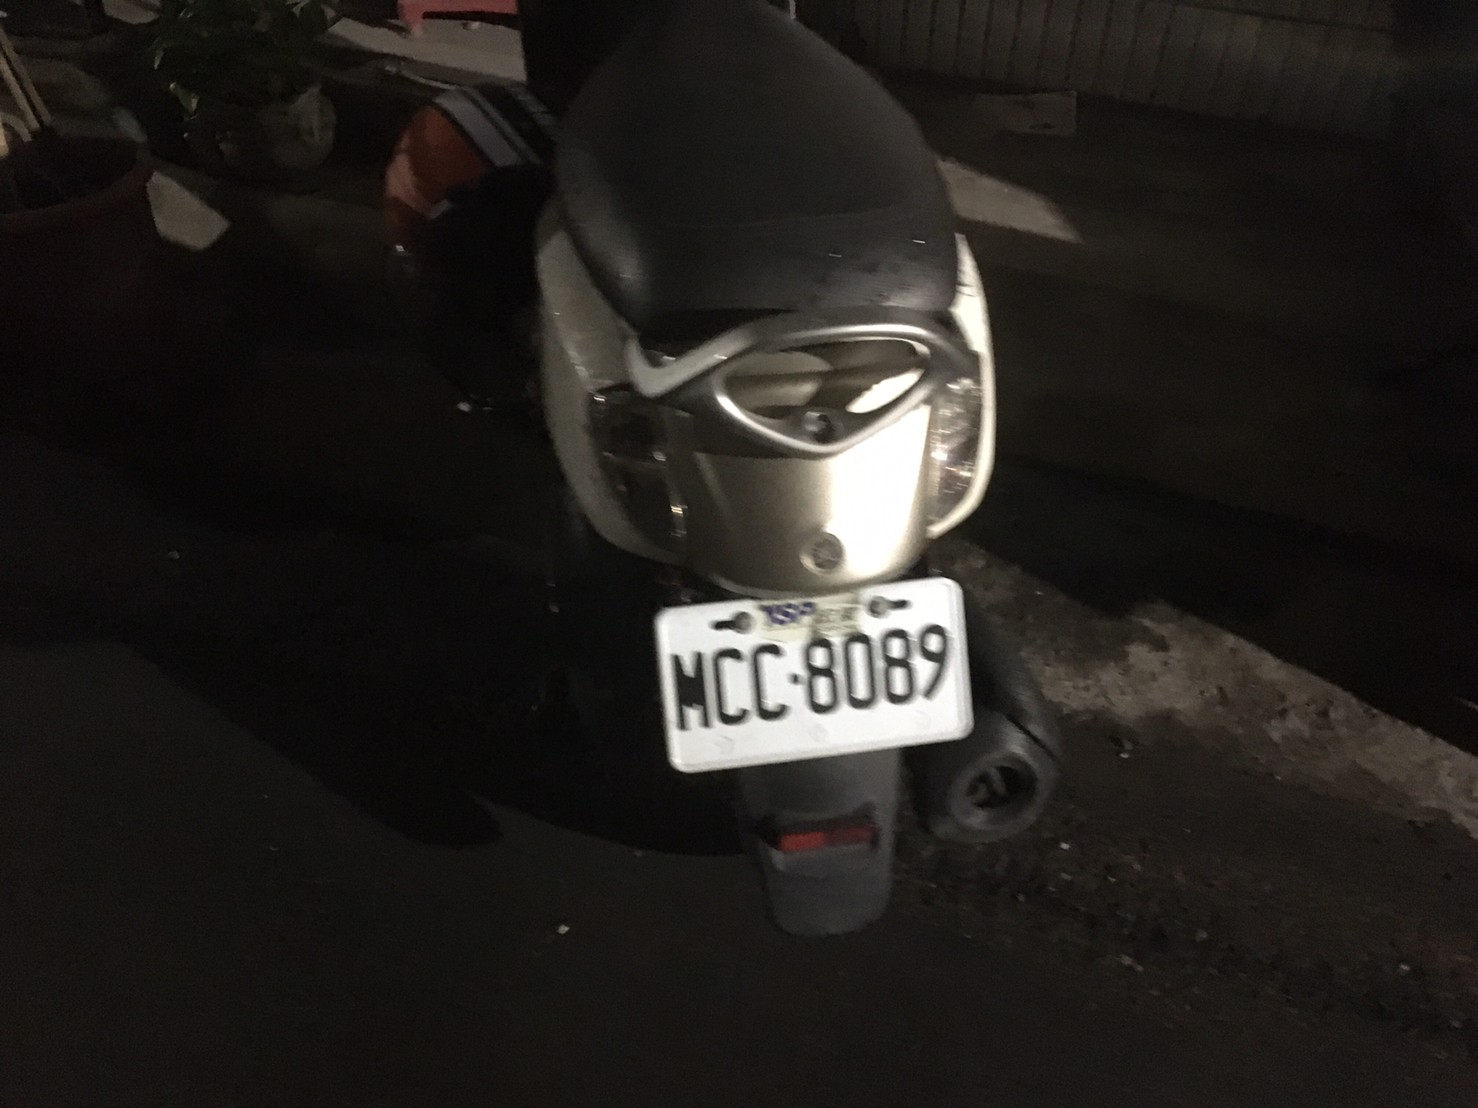LP: (657, 603, 964, 741)
